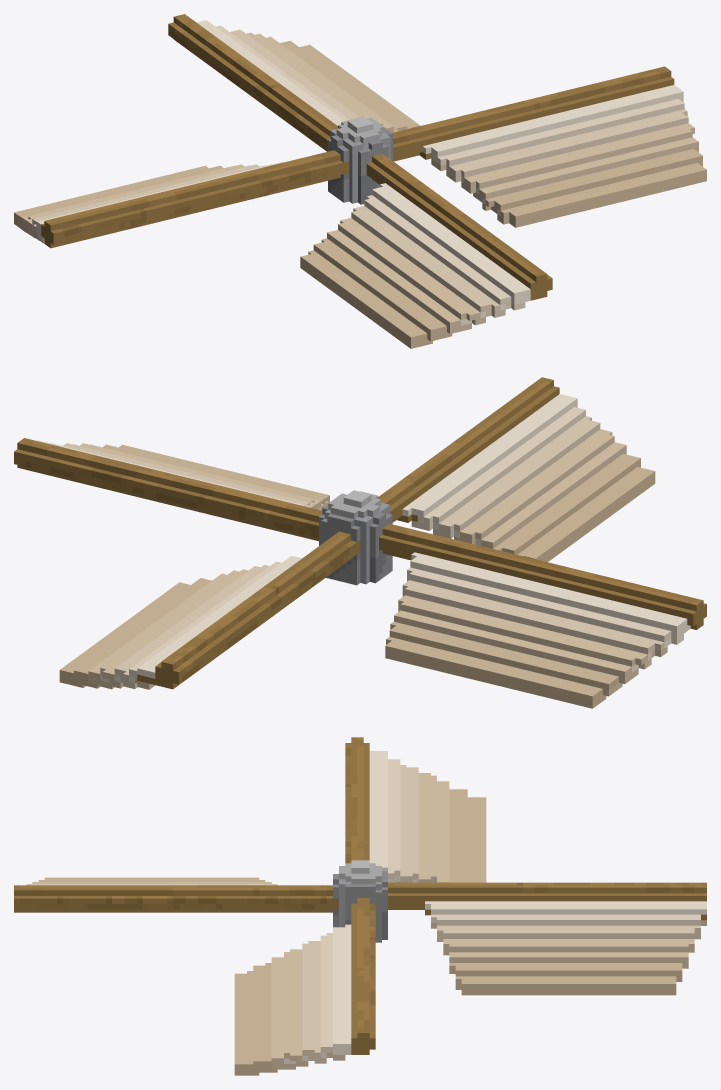
The model's file is pan_1.FBX.
3 views of the same model, one above another, from view 1: azimuth 30°, elevation 25°; view 2: azimuth 150°, elevation 25°; view 3: azimuth 270°, elevation 25° (orthographic). The views are drawn at different scales.
Parts seen in each view (by area): view 1: default048; view 2: default048; view 3: default048.
Boxes of the visible parts, left/top/right/bottom form: default048: left=14, top=14, right=706, bottom=348; default048: left=14, top=377, right=706, bottom=708; default048: left=14, top=737, right=706, bottom=1075.
Bounding box in the file's own units: 3420 × 420 × 3390.
